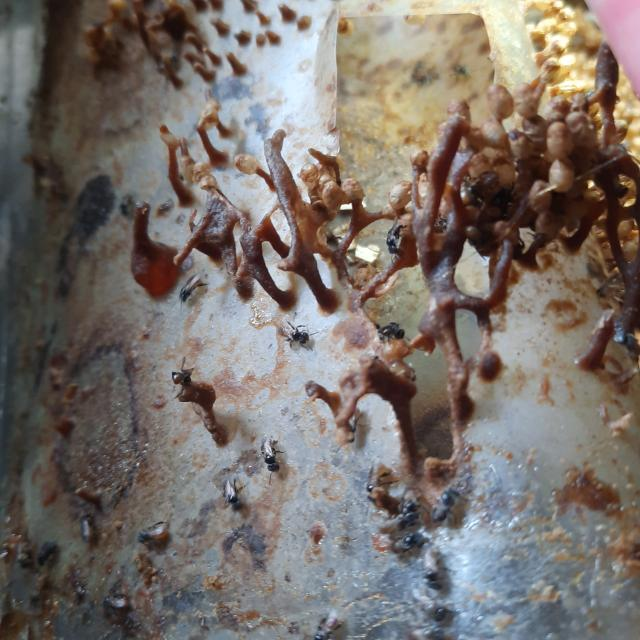honeybee: (429, 484, 458, 526), (176, 267, 207, 304), (364, 464, 393, 501), (394, 528, 425, 558), (278, 321, 310, 350), (382, 220, 404, 262), (135, 524, 174, 546), (424, 547, 443, 592), (35, 540, 63, 570), (397, 494, 423, 526), (220, 474, 244, 508), (312, 613, 342, 640), (377, 322, 413, 342), (262, 439, 282, 474), (103, 596, 137, 614), (430, 601, 450, 631), (173, 360, 193, 388), (79, 513, 95, 548), (18, 542, 36, 570), (614, 321, 633, 347)
